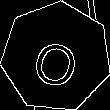O_N: (28, 26, 85, 88)
